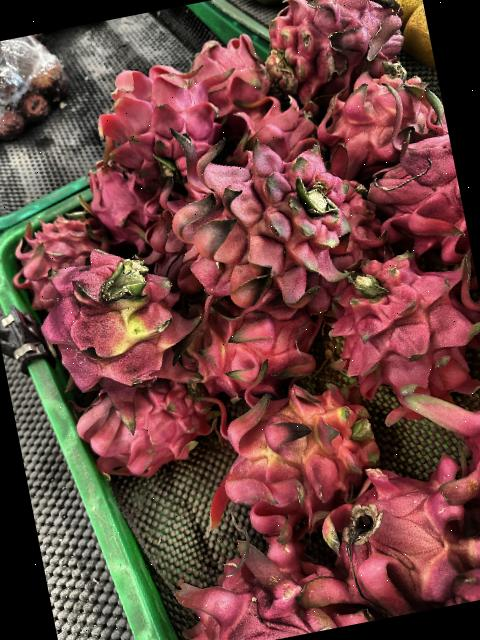buah-naga-belum-matang: (195, 364, 391, 530), (26, 243, 206, 407)
buah-naga-matang: (159, 120, 359, 306), (312, 447, 478, 624), (330, 243, 480, 421), (166, 520, 357, 640), (80, 49, 224, 181), (177, 297, 328, 409), (362, 122, 472, 272), (253, 0, 416, 101), (314, 63, 450, 184), (398, 361, 480, 561), (74, 371, 210, 476), (5, 200, 121, 296), (222, 84, 330, 174), (183, 25, 288, 116), (76, 149, 160, 253)
